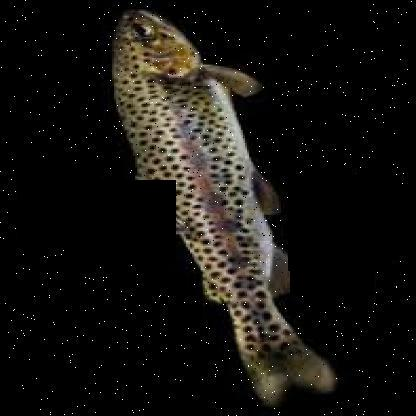fish: (108, 9, 326, 402)
